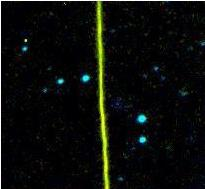star: (9, 26, 39, 56)
